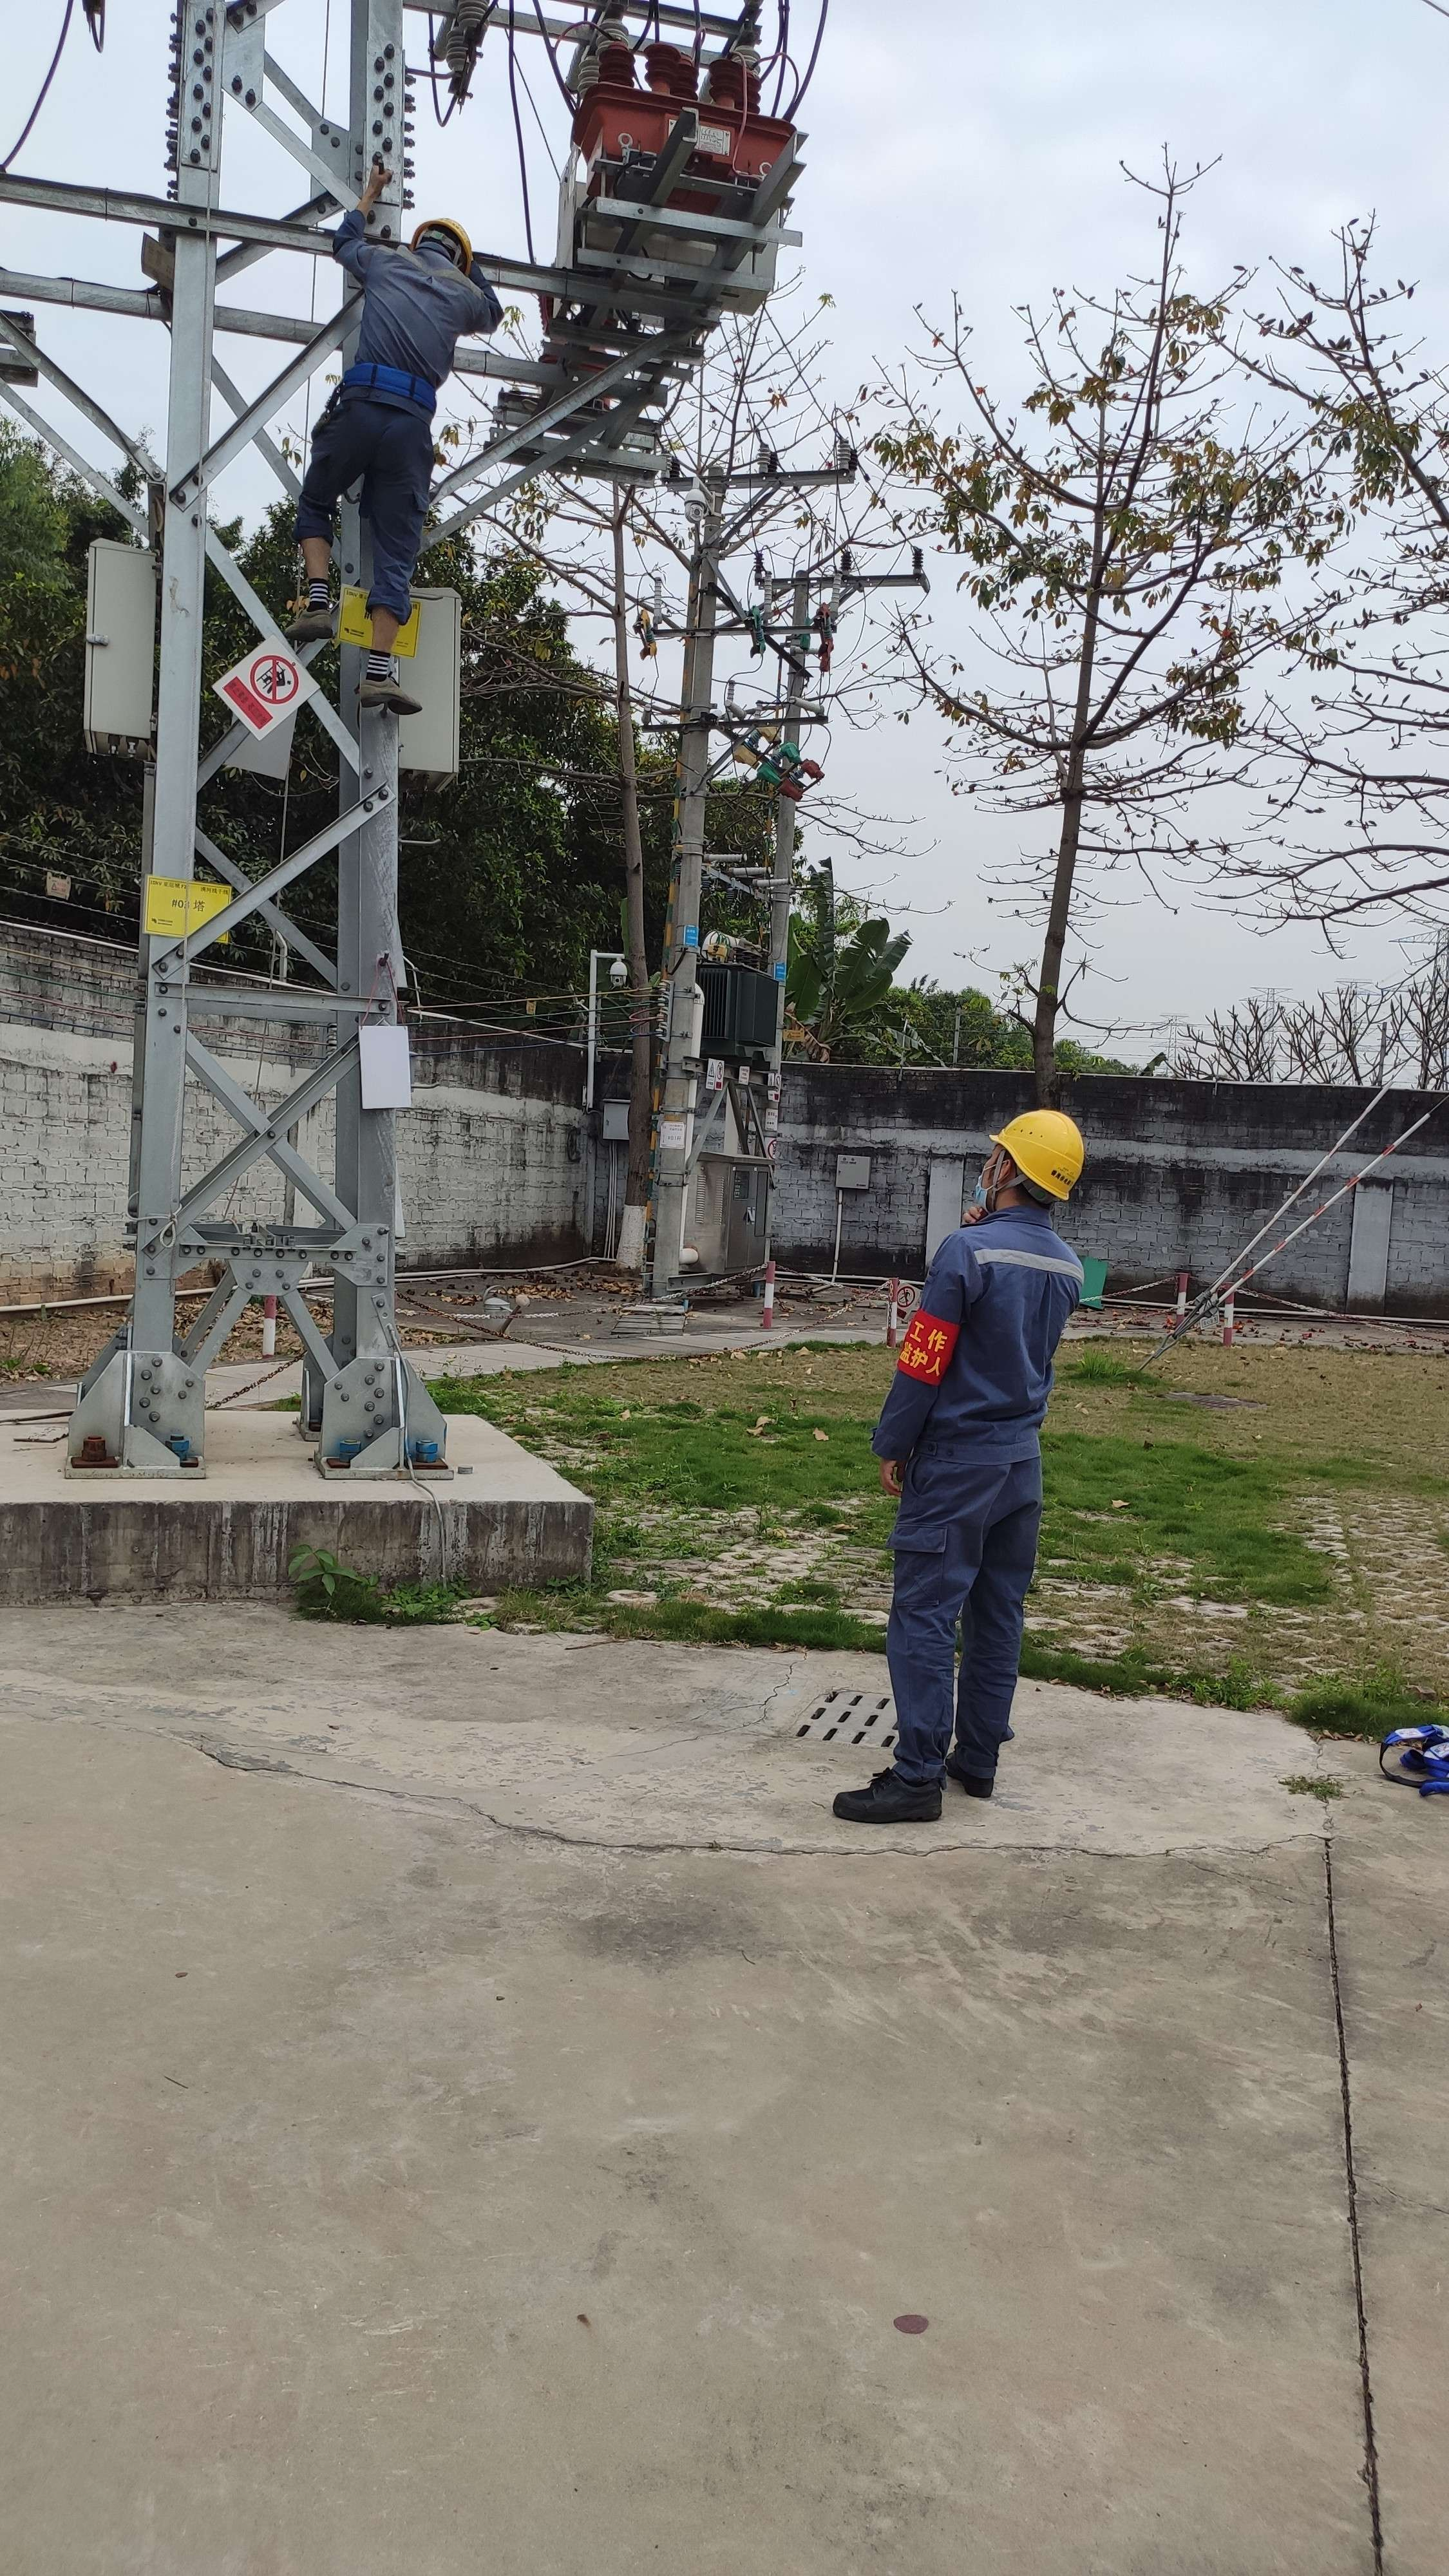downsuit: (874, 1484, 1053, 1776), (304, 423, 444, 621)
upsuit: (870, 1207, 1102, 1472), (329, 218, 490, 387)
wrongbottom: (366, 596, 410, 660), (297, 520, 336, 589)
